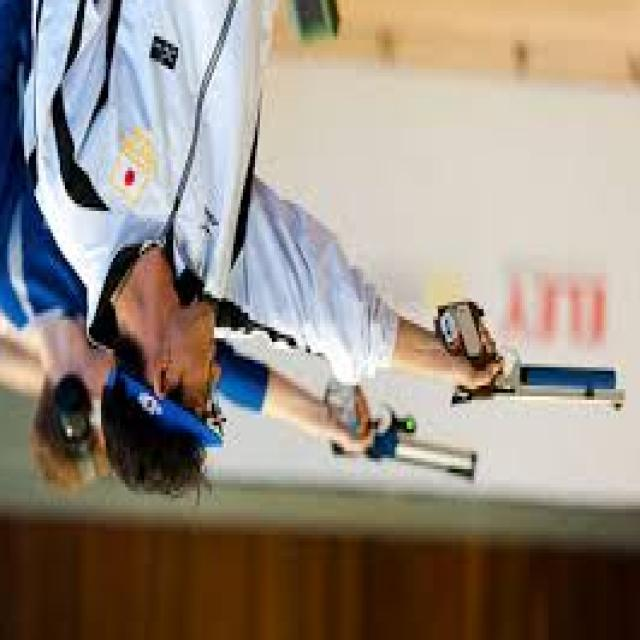gun: (412, 277, 634, 436), (303, 373, 496, 531)
